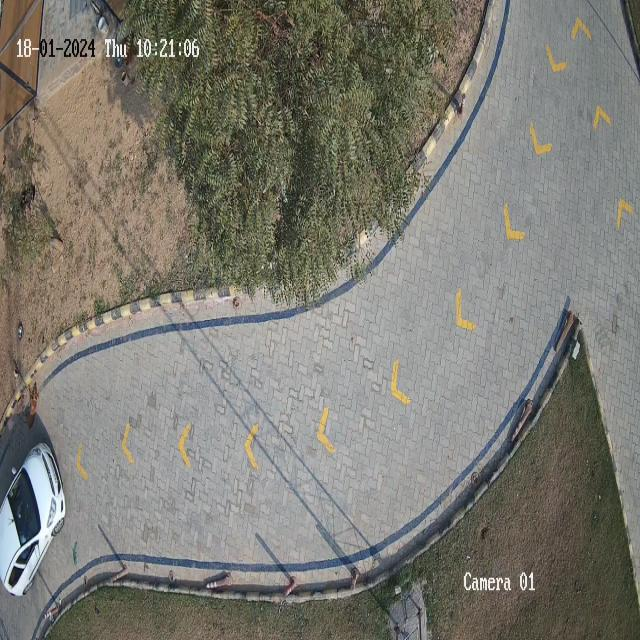car: (0, 442, 67, 597)
